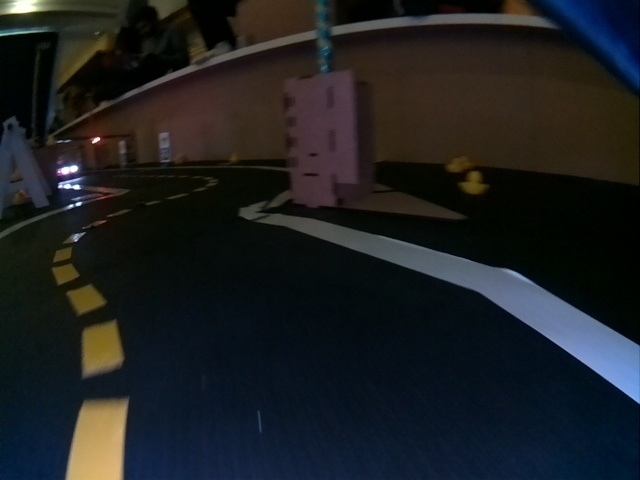Duckie: (462, 171, 486, 194), (447, 157, 464, 172), (229, 152, 237, 162)
